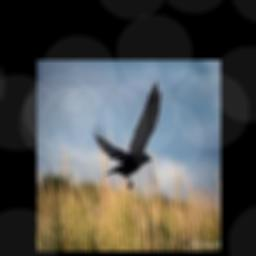Crow: (91, 82, 162, 190)
